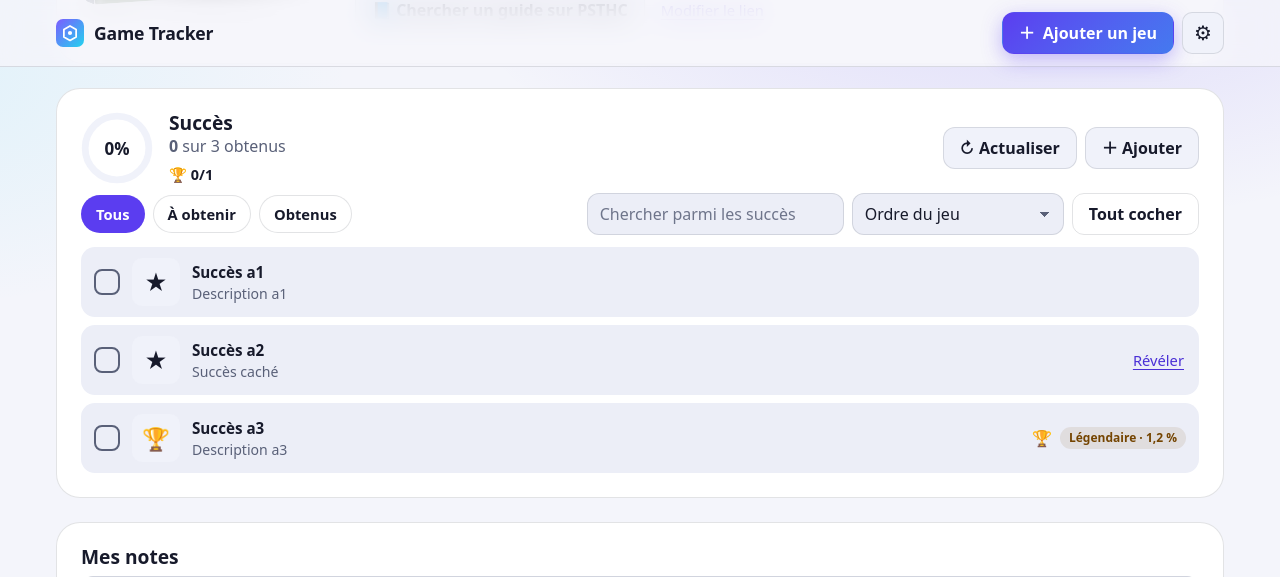
it: game page › hides the description of a secret achievement until revealed
(page scrolled)
expect the text "Spoiler" is not shown: met
Click the button with aria-label "Révéler la description de Succès a2". click: (1158, 360)
box: x1=1131 y1=345 x2=1186 y2=376
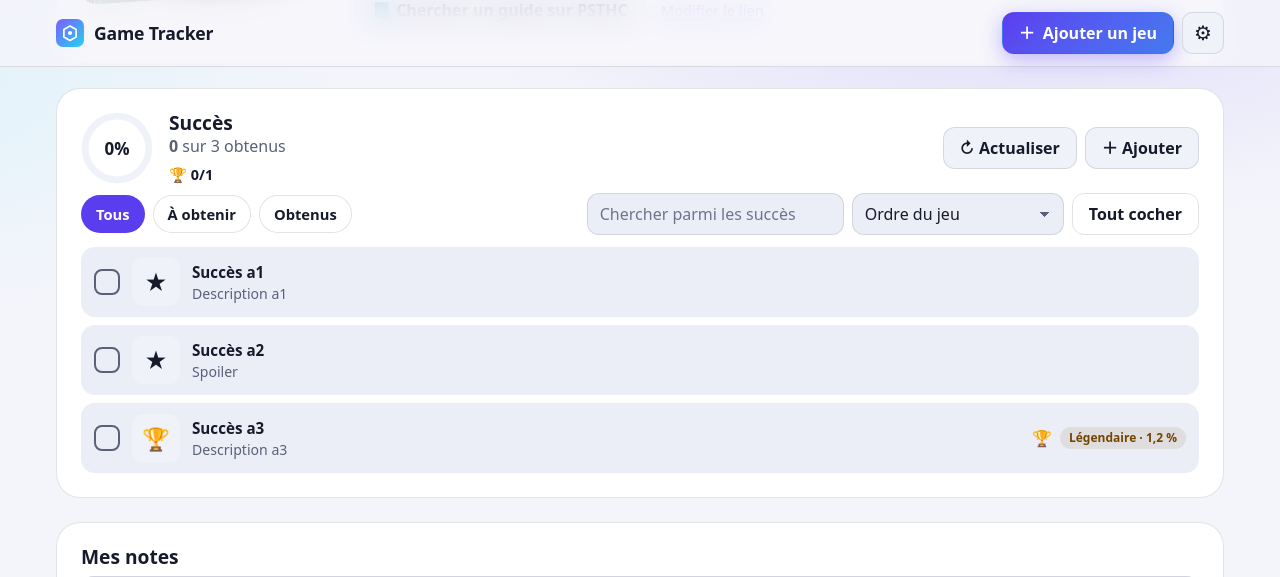
expect the text "Spoiler" is shown: met, box x1=192 y1=362 x2=238 y2=381
